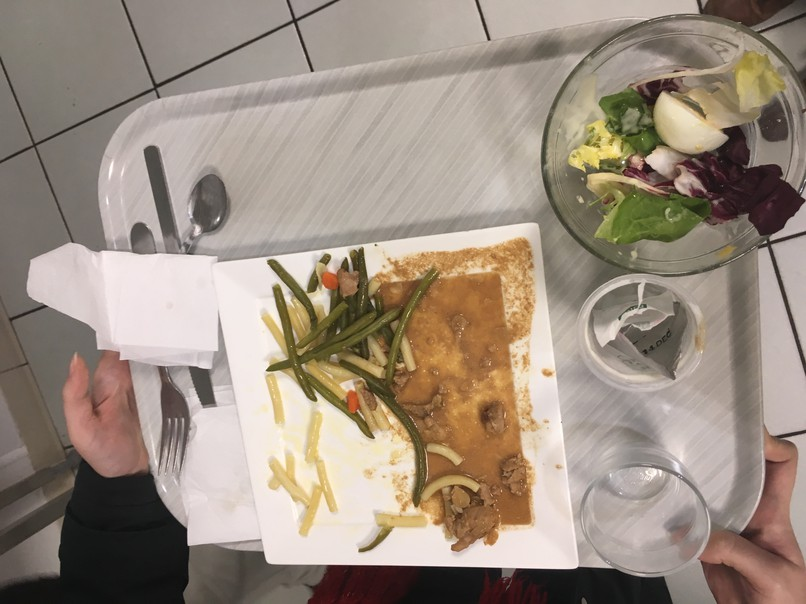cup: (575, 440, 748, 579)
cutlery: (103, 145, 243, 252), (144, 354, 232, 489)
orga: (588, 59, 788, 247), (267, 254, 415, 426), (431, 442, 534, 551)
trash: (27, 235, 227, 374), (585, 271, 710, 398), (170, 394, 263, 542)
